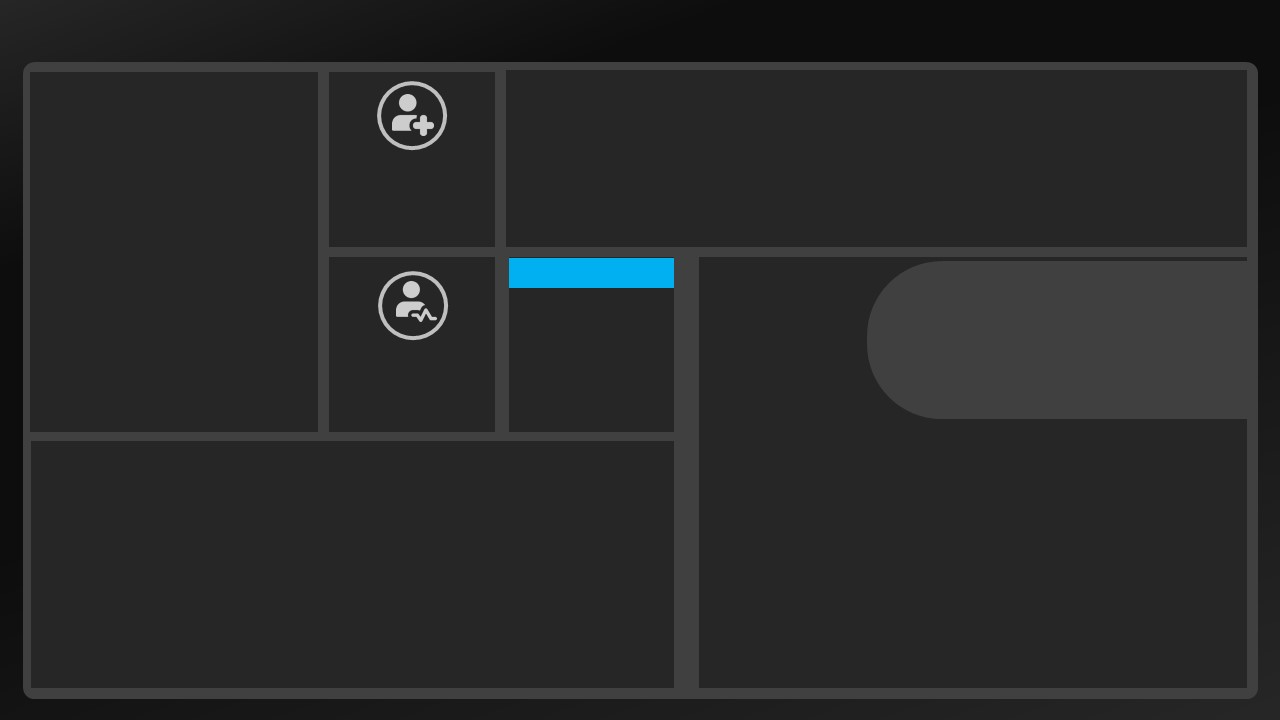

What the dashboard file says about the page in this screenshot:
{"tool":"powerbi","page":{"name":"Tooltip","canvas":[200,450],"ordinal":3},"visuals":[{"type":"card","fields":{"Values":["Min(providers.Provider Name)"]},"box":[0,0,199.8,41.5],"z":0},{"type":"simpleImageEBC4593F96F1425FB3D84C5BF02B5075","fields":{"imageURL":["providers.Image"]},"box":[0,41.5,199.8,205.1],"z":1000},{"type":"tableEx","fields":{"Values":["providers.Age","providers.Nationality"]},"box":[0,257.9,199.8,67.1],"z":2000},{"type":"card","title":"Patients Attended to","fields":{"Values":["DAX Calculation.Total Patients"]},"box":[0,325,199.8,63.3],"z":3000},{"type":"card","title":"Patients Attended to","fields":{"Values":["DAX Calculation.Patient Satisfaction Score"]},"box":[0,388.3,199.8,61.8],"z":4000}]}

Visuals, with their boxes on the page's 200x450 design canvas (x1, y1, x2, y2). These are canvas units, not pixel positions in the 1280x720 screenshot, which may show the page scaled, cropped or inside an application window:
card - Min(providers.Provider Name): bbox=[0, 0, 200, 42]
simpleImageEBC4593F96F1425FB3D84C5BF02B5075 - providers.Image: bbox=[0, 42, 200, 247]
tableEx - providers.Age x providers.Nationality: bbox=[0, 258, 200, 325]
"Patients Attended to" card: bbox=[0, 325, 200, 388]
"Patients Attended to" card: bbox=[0, 388, 200, 450]
